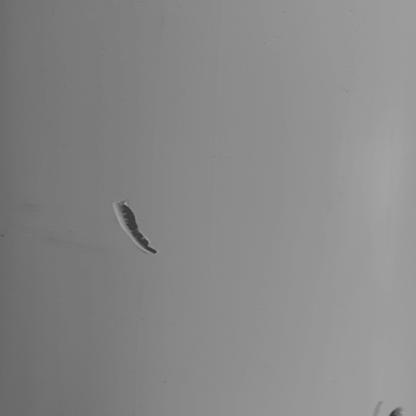kongdong: (109, 198, 168, 257)
